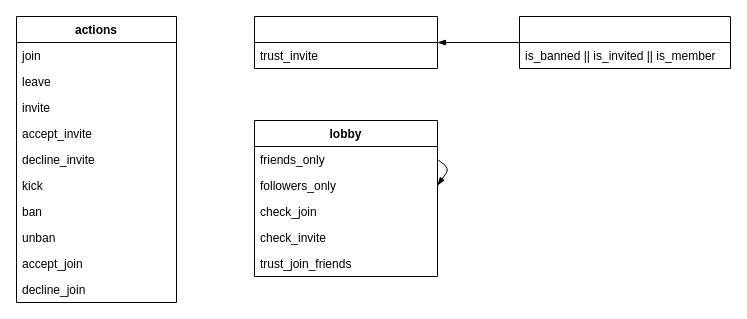
The diagram is 747 pixels wide and 319 high, and some of its shapes have lost their labels. The shapes that lost their labels are listed below. From the top down, each one's box as (x1, y1, x2, y2) in pixels, then its label:
(254, 16, 438, 68): client
(518, 16, 730, 68): user_lobby
